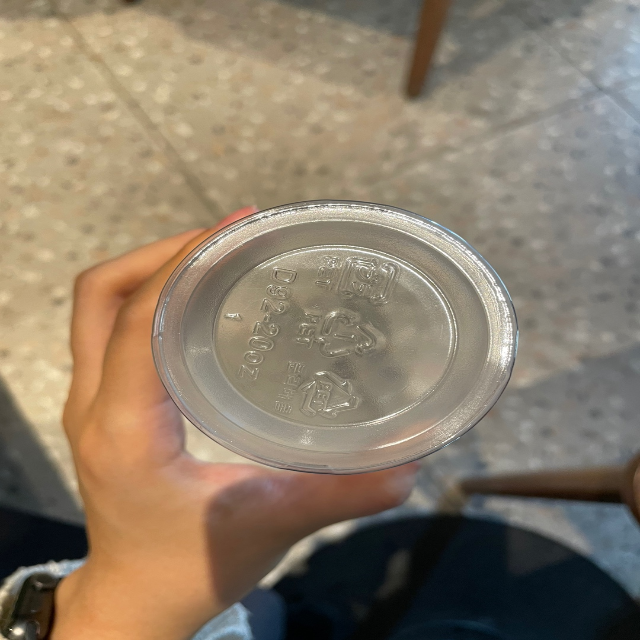pet: (270, 359, 366, 422), (308, 247, 402, 308), (292, 303, 389, 361)
